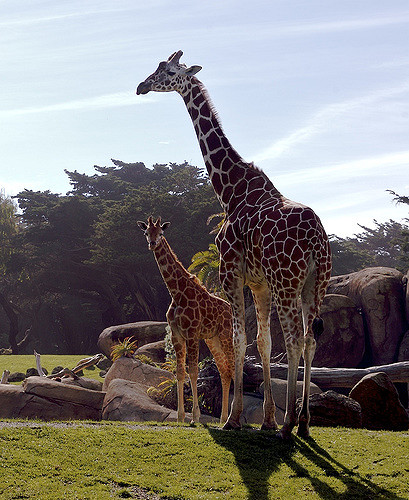giraffe: (138, 36, 345, 421), (123, 200, 238, 428)
